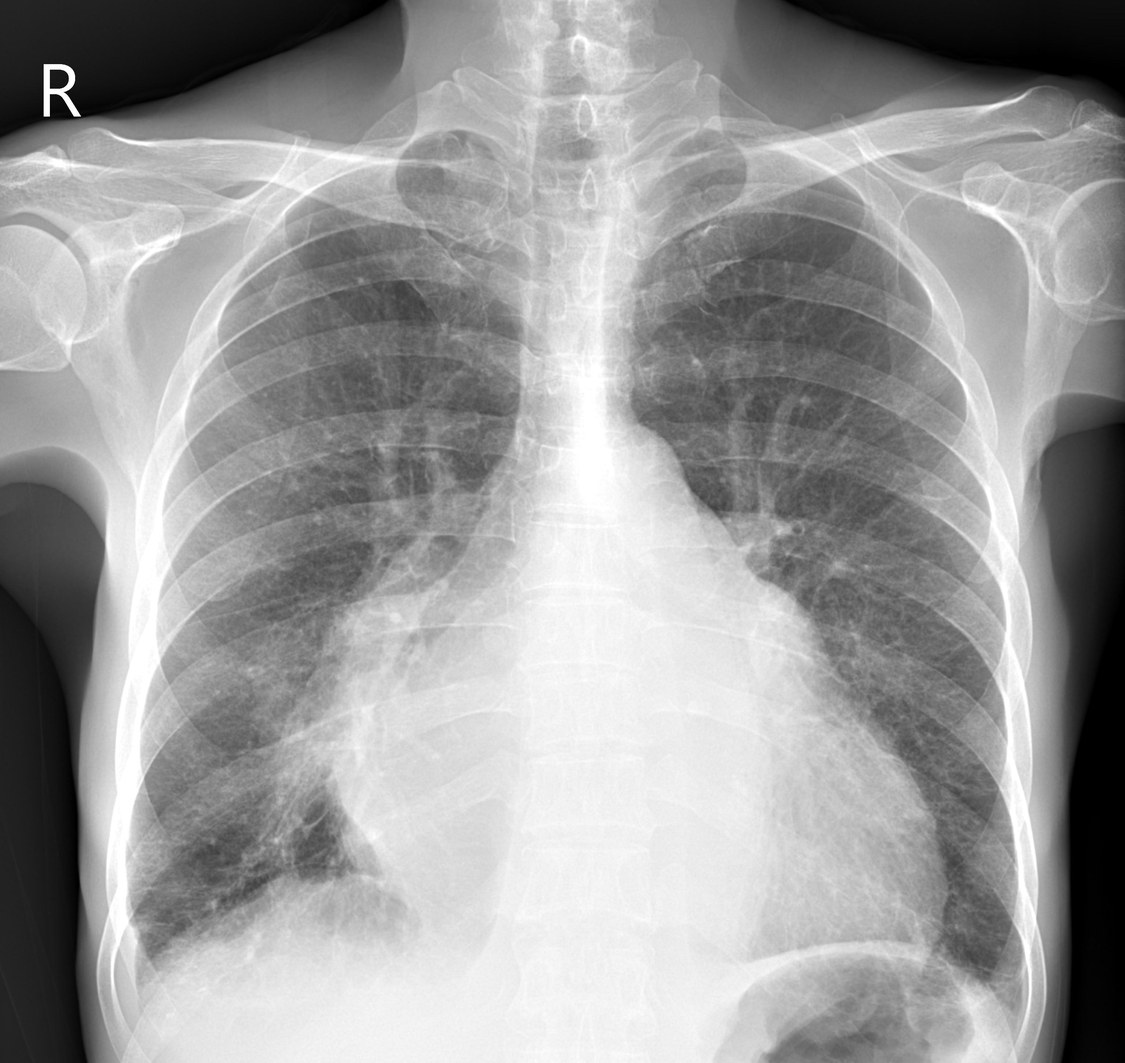Cardiomegaly: (326, 735, 943, 949)
Pleural thickening: (107, 910, 188, 1003), (989, 965, 1032, 1038)
